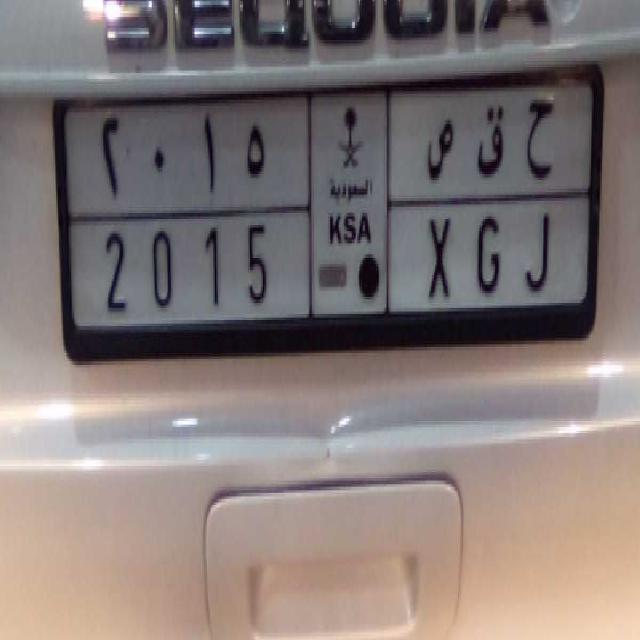license_plate: (83, 203, 574, 324)
